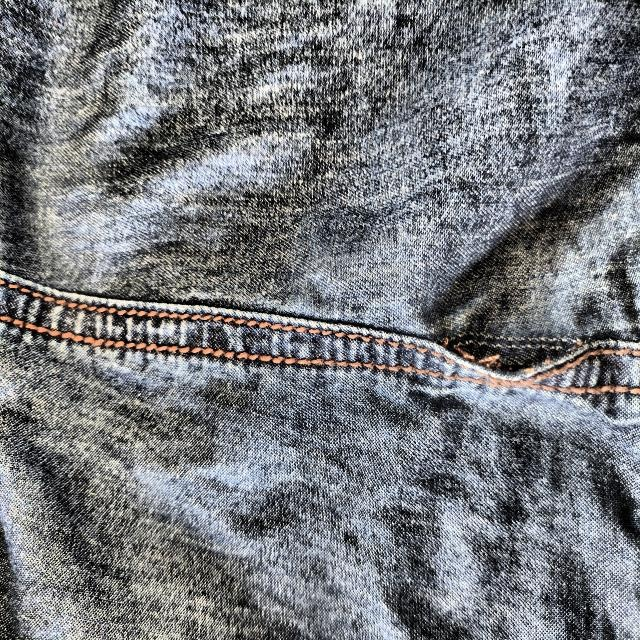seam: (416, 275, 603, 422)
